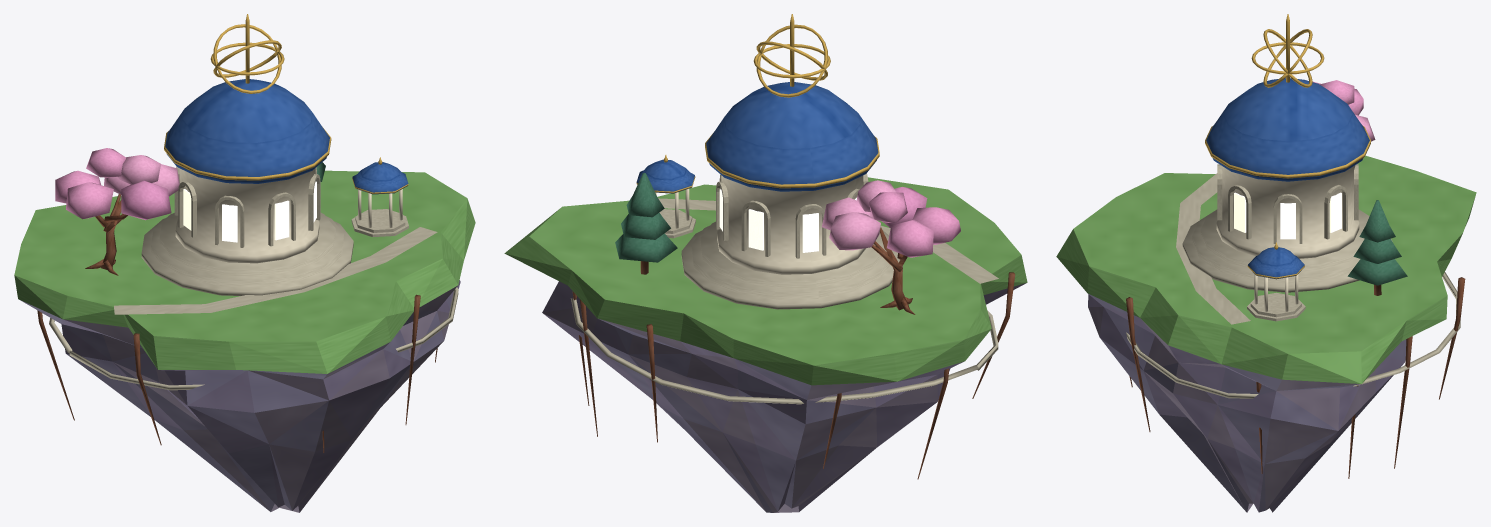
File: sky-observatory-balanced.glb
3 views of the same model, side by side, from view 1: azimuth 30°, elevation 25°; view 2: azimuth 150°, elevation 25°; view 3: azimuth 270°, elevation 25° (orthographic). The views are drawn at different scales.
Parts seen in each view (by area): view 1: sky-observatory; view 2: sky-observatory; view 3: sky-observatory.
Boxes of the visible parts, box(x1,y1,x2,y2) form: sky-observatory: box(14, 14, 475, 512); sky-observatory: box(504, 14, 1027, 512); sky-observatory: box(1056, 14, 1476, 512).
Size of the model in its own units: 12.74 by 13.69 by 10.78.
Materials: 10 (10 with a texture image).
